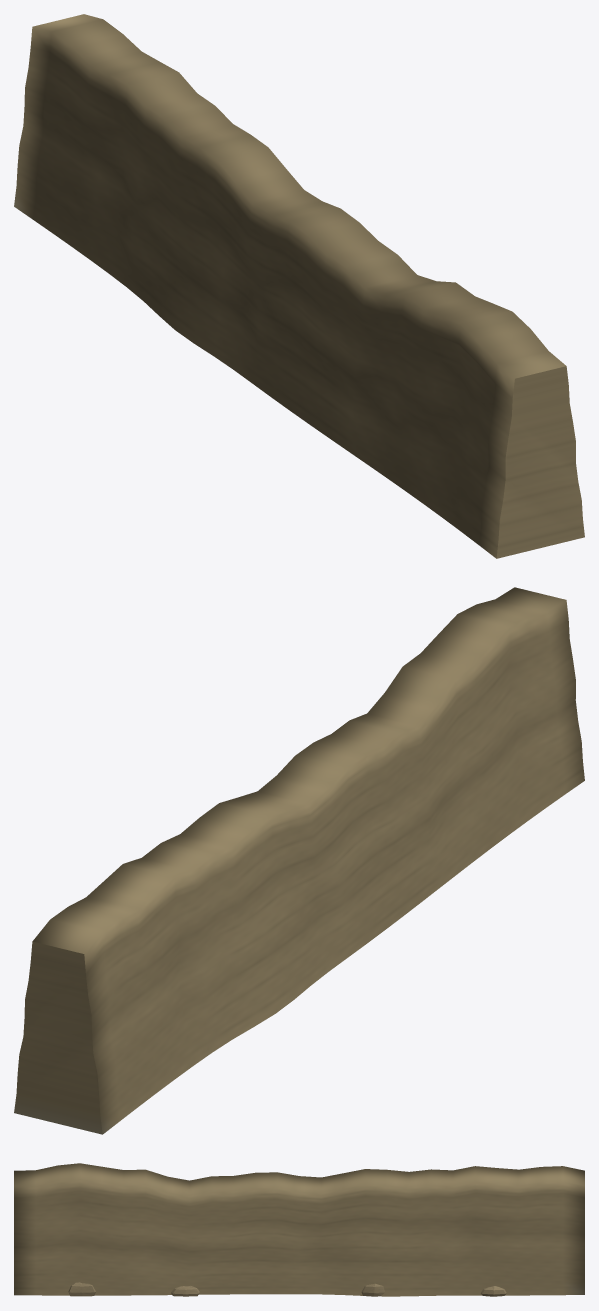
Rendered from wall-earth-lod0.glb.
3 renders of one model, top to bottom at view 1: azimuth 30°, elevation 25°; view 2: azimuth 150°, elevation 25°; view 3: azimuth 270°, elevation 25°, orthographic. The views are drawn at different scales.
Size of the model in its own units: 0.1219 by 0.2167 by 1.
1 material, 1 textured.
